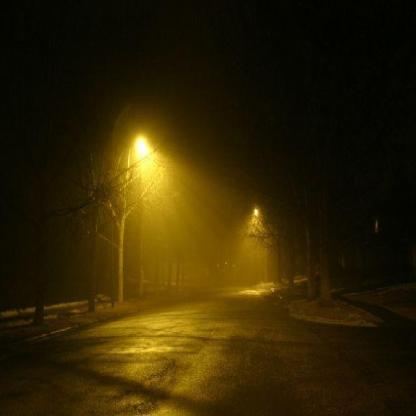other: (124, 126, 164, 182), (253, 204, 263, 234)
